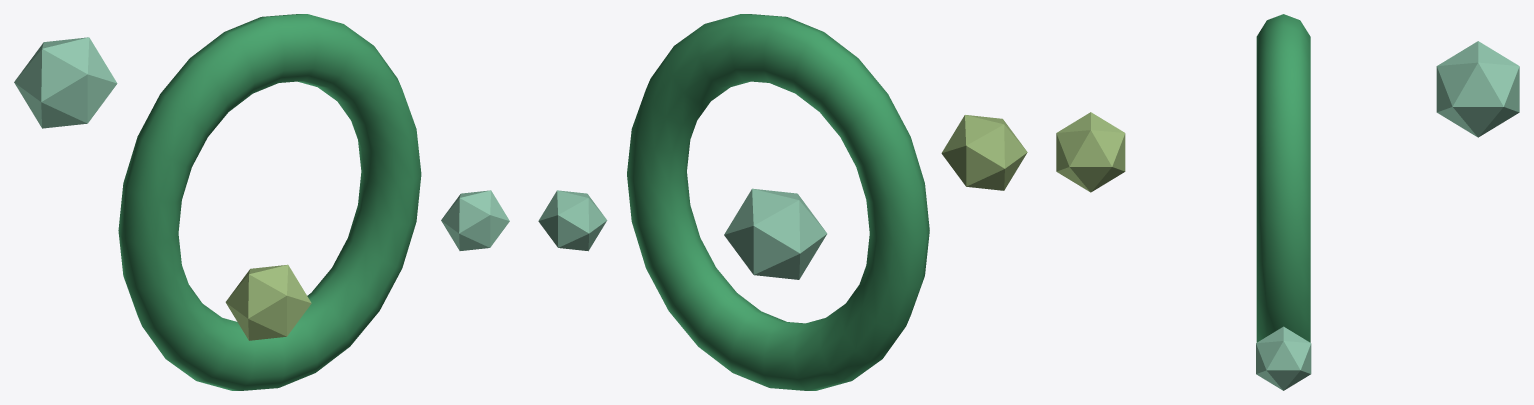
The model's file is landmark.glb.
The picture shows the model from 3 angles, left to right: view 1: azimuth 30°, elevation 25°; view 2: azimuth 150°, elevation 25°; view 3: azimuth 270°, elevation 25°; orthographic projection. The views are drawn at different scales.
Visible parts, largest first — view 1: landmark_core_1, landmark_orbit_2, landmark_orbit_1, landmark_orbit_0; view 2: landmark_core_1, landmark_orbit_2, landmark_orbit_1, landmark_orbit_0; view 3: landmark_core_1, landmark_orbit_2, landmark_orbit_1, landmark_orbit_0.
Part boxes in pixels (x1,y1,x2,y2): landmark_core_1: (118,14,421,390); landmark_orbit_2: (14,37,117,128); landmark_orbit_1: (225,264,311,340); landmark_orbit_0: (441,190,509,250); landmark_core_1: (627,14,929,390); landmark_orbit_2: (724,188,827,279); landmark_orbit_1: (941,115,1027,190); landmark_orbit_0: (538,190,607,251); landmark_core_1: (1256,14,1310,342); landmark_orbit_2: (1436,41,1519,137); landmark_orbit_1: (1056,112,1125,192); landmark_orbit_0: (1256,326,1311,390).
Size of what is drawn, in the model's own units: 4.05 by 3.79 by 4.57.
